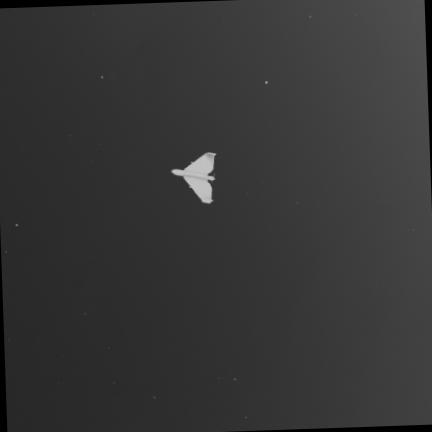Shahed: (172, 152, 215, 202)
